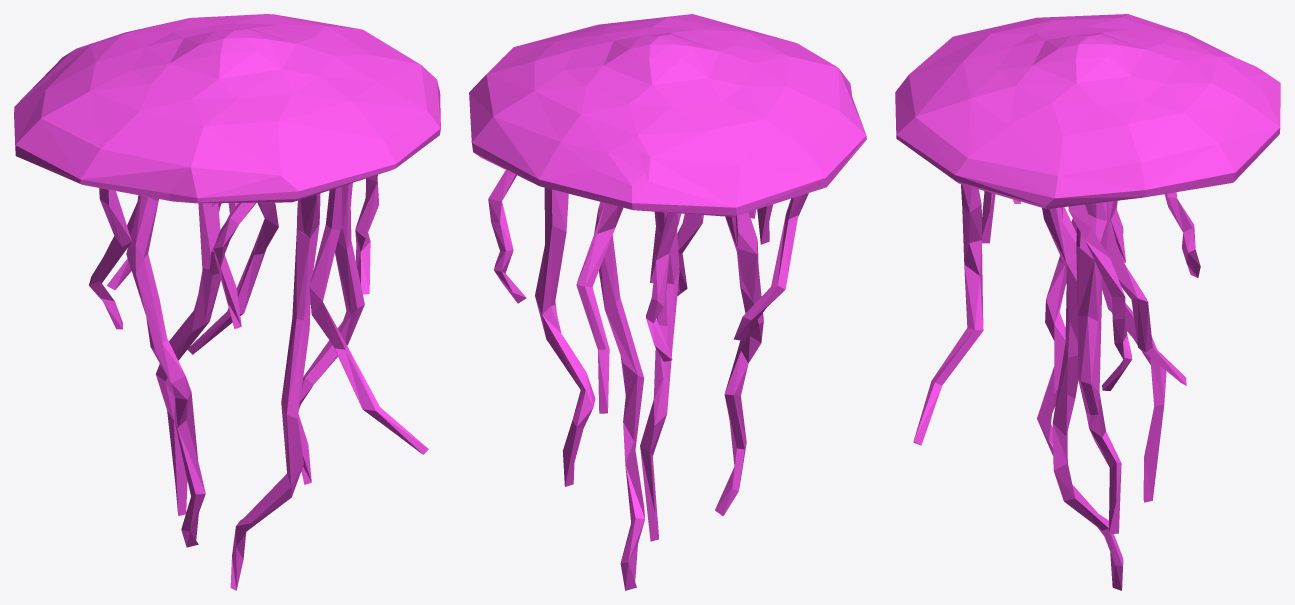
The model's file is SM_Mushroom_Jellyfish_Big_A_Fantasy.fbx.
The picture shows the model from 3 angles, left to right: view 1: azimuth 30°, elevation 25°; view 2: azimuth 150°, elevation 25°; view 3: azimuth 270°, elevation 25°; orthographic projection. The views are drawn at different scales.
Visible parts, largest first — view 1: SM_Mushroom_Jellyfish_Big_A_Fantasy; view 2: SM_Mushroom_Jellyfish_Big_A_Fantasy; view 3: SM_Mushroom_Jellyfish_Big_A_Fantasy.
Part boxes in pixels (x1,y1,x2,y2): SM_Mushroom_Jellyfish_Big_A_Fantasy: (14,14,440,590); SM_Mushroom_Jellyfish_Big_A_Fantasy: (469,14,866,590); SM_Mushroom_Jellyfish_Big_A_Fantasy: (895,14,1280,590).
Size of the model in its own units: 2.11 by 3.02 by 1.95.
